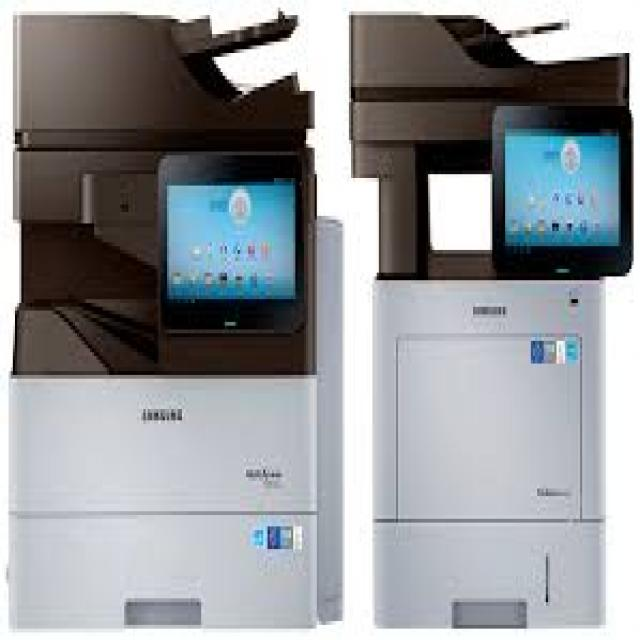printer: (0, 0, 349, 640), (340, 5, 640, 640)
